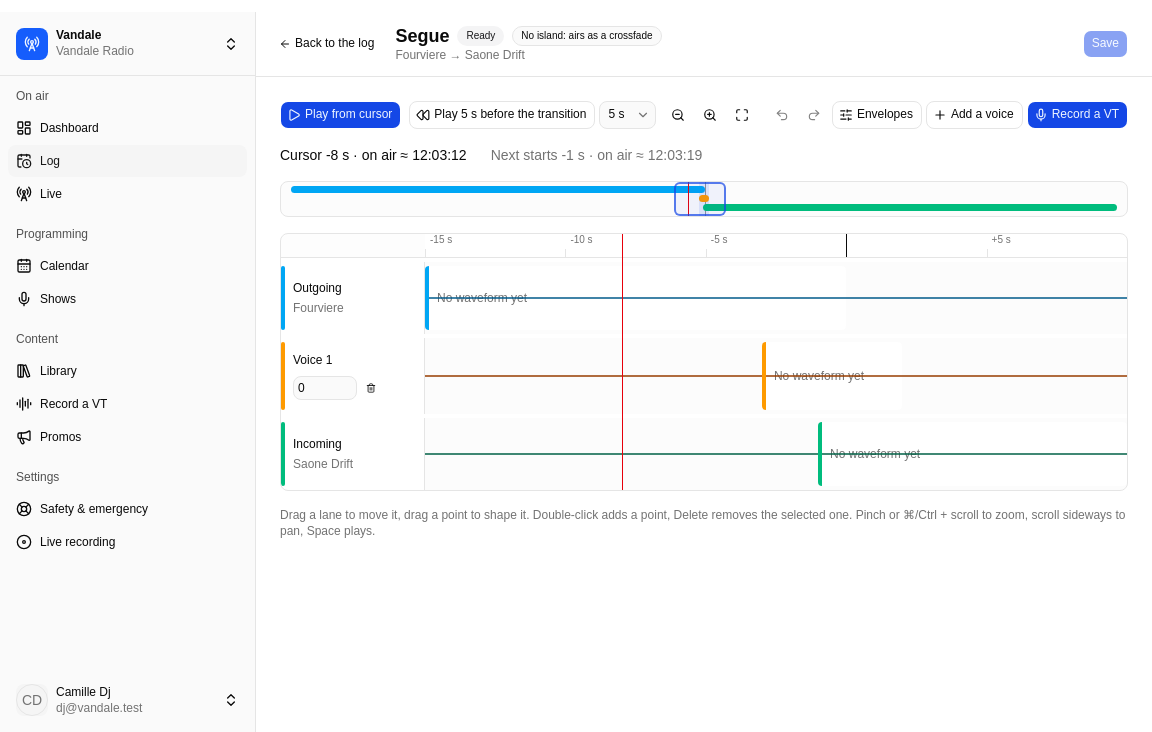
Test: segue editor › ducks under the voice, undoes and redoes, and saves with the version
Expected: the text "Voice 1" is shown, [293, 353, 332, 367]
Expected: the button "Save" is disabled, [1083, 30, 1128, 58]
Click the button "Envelopes": (877, 115) [832, 101, 922, 129]
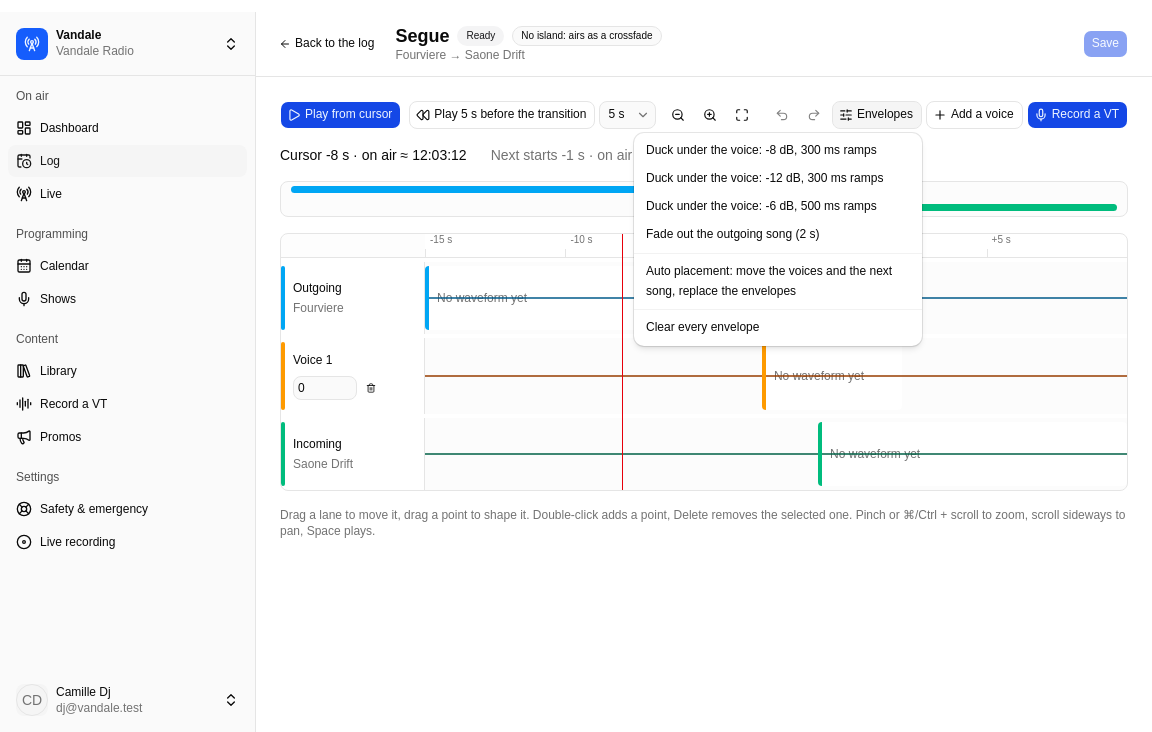
Click the menu item "Duck under the voice: -8 dB, 300 ms ramps": (761, 150) [646, 143, 877, 157]
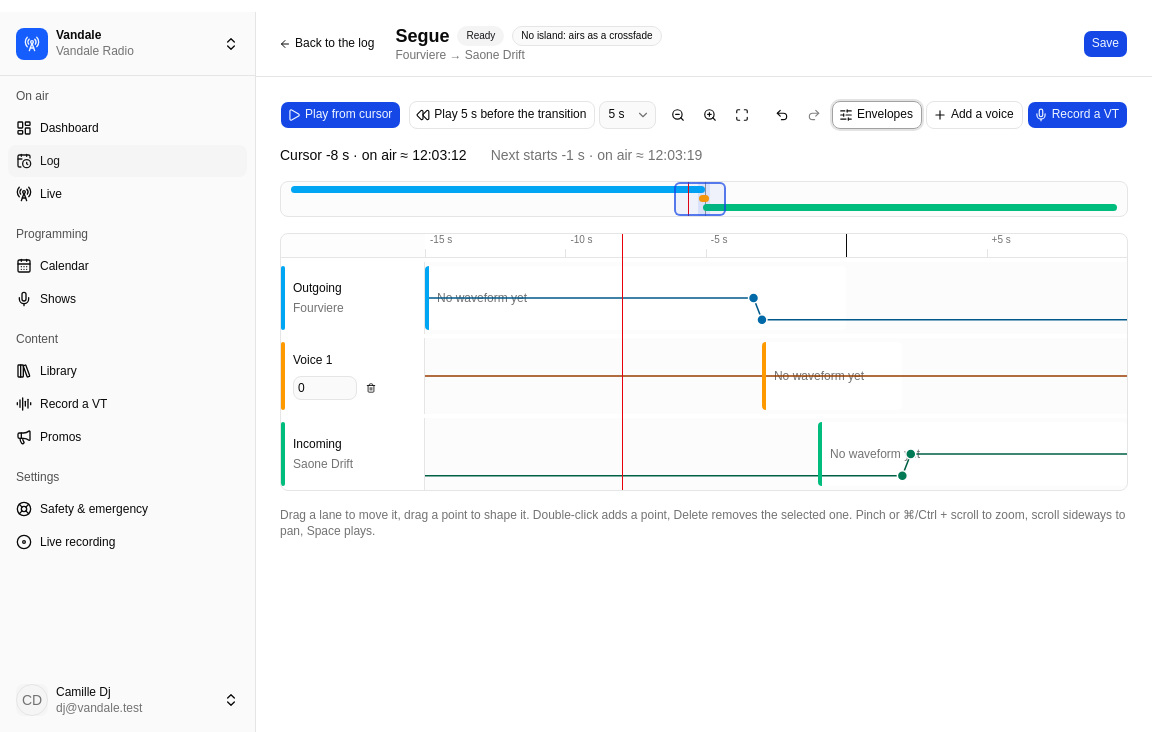
Expected: the button "Save" is enabled, [1083, 30, 1128, 58]
Click the button named "Undo": (782, 115) [768, 101, 796, 129]
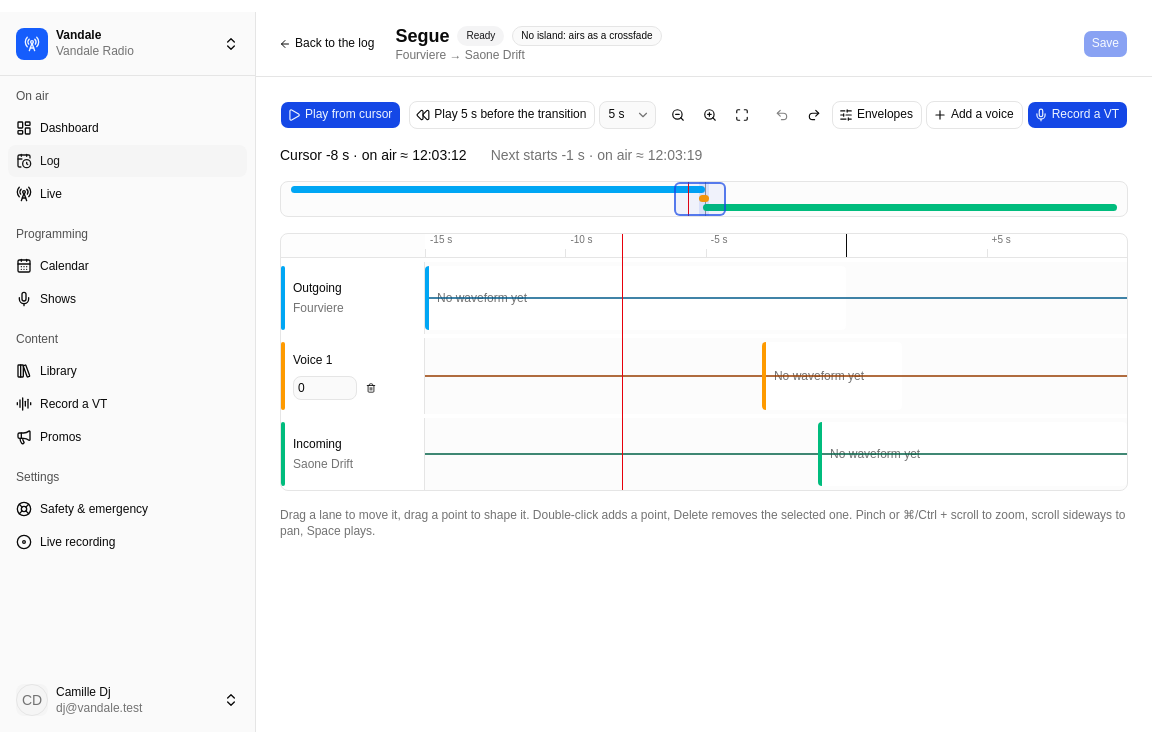
Expected: the button "Save" is disabled, [1083, 30, 1128, 58]
Click the button named "Redo": (814, 115) [800, 101, 828, 129]
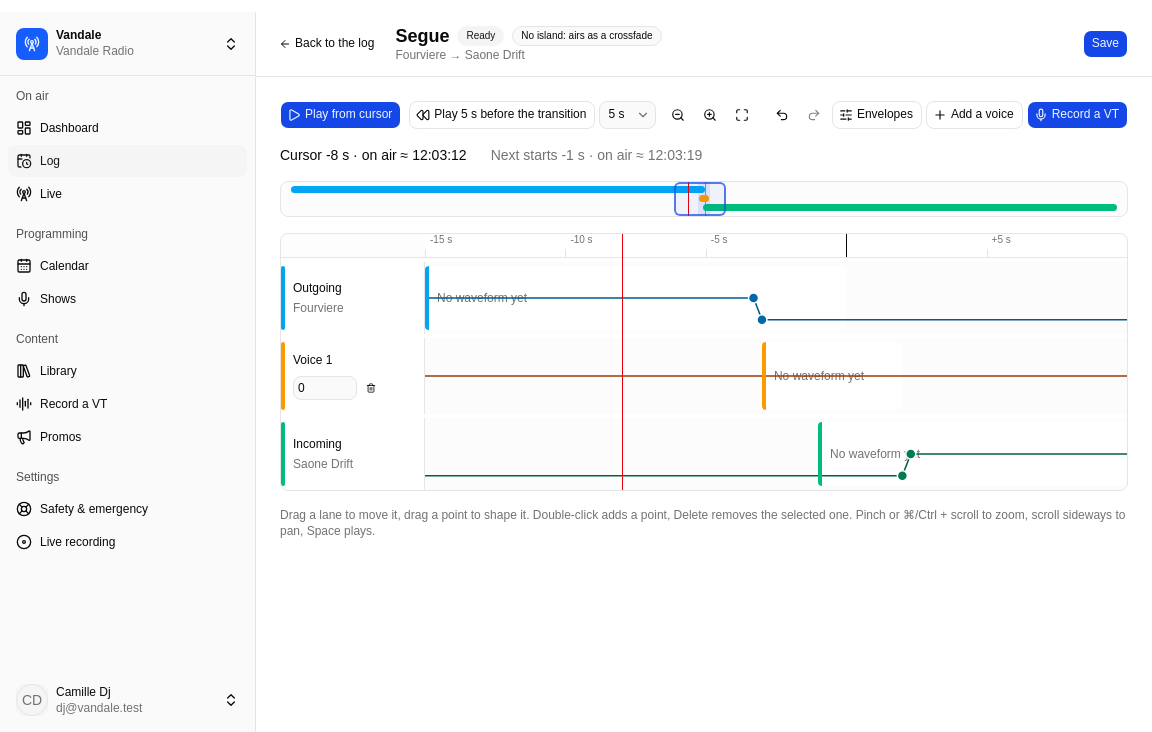
Expected: the button "Save" is enabled
Click the button "Save": (1105, 44) [1083, 30, 1128, 58]
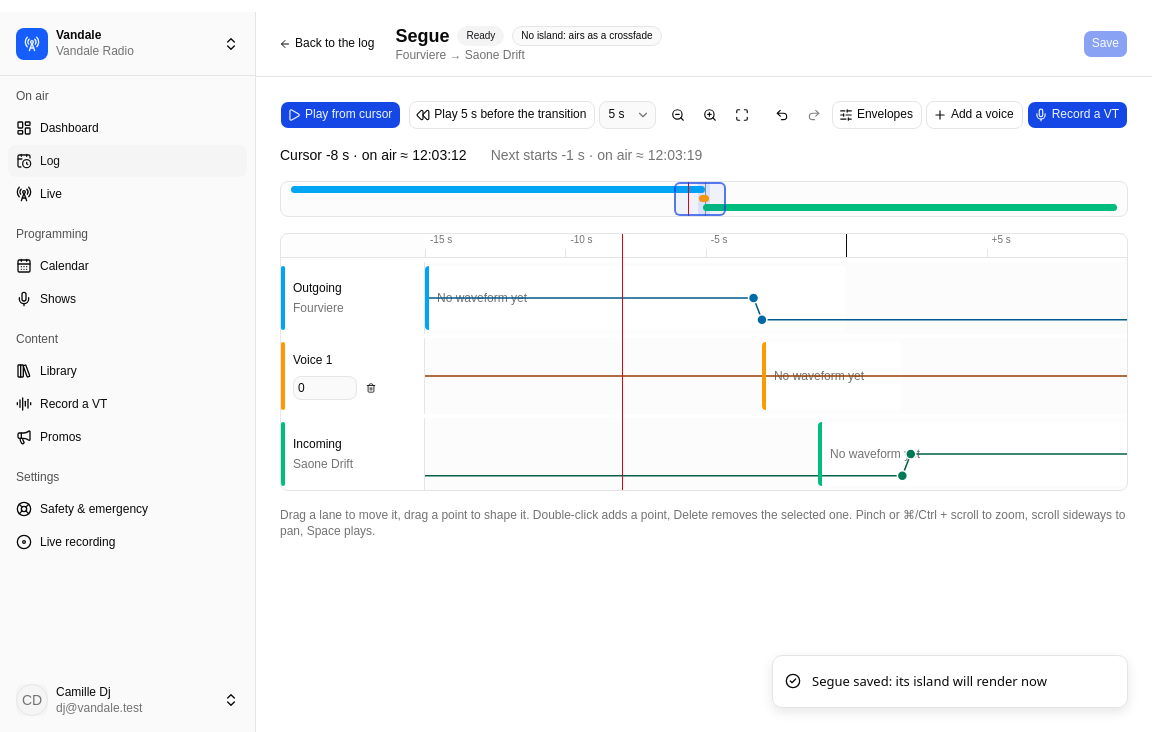
Expected: the button "Save" is disabled, [1083, 30, 1128, 58]
